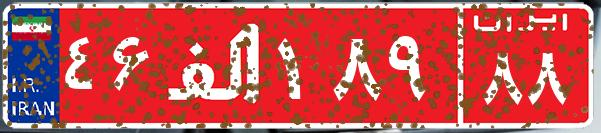1: (273, 28, 330, 110)
4: (57, 26, 110, 107)
6: (110, 28, 158, 105)
8: (330, 28, 385, 110), (475, 38, 525, 113), (525, 38, 570, 115)
9: (385, 28, 445, 110)
الف: (158, 15, 273, 115)
